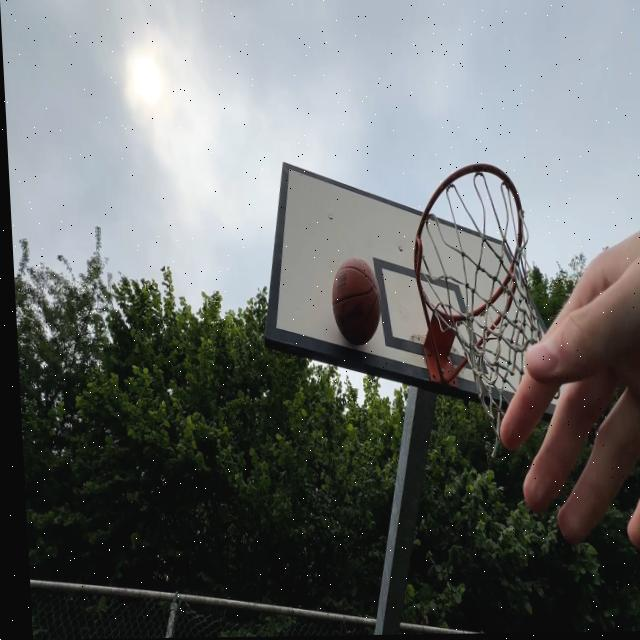rebound_hit: (331, 259, 383, 352)
